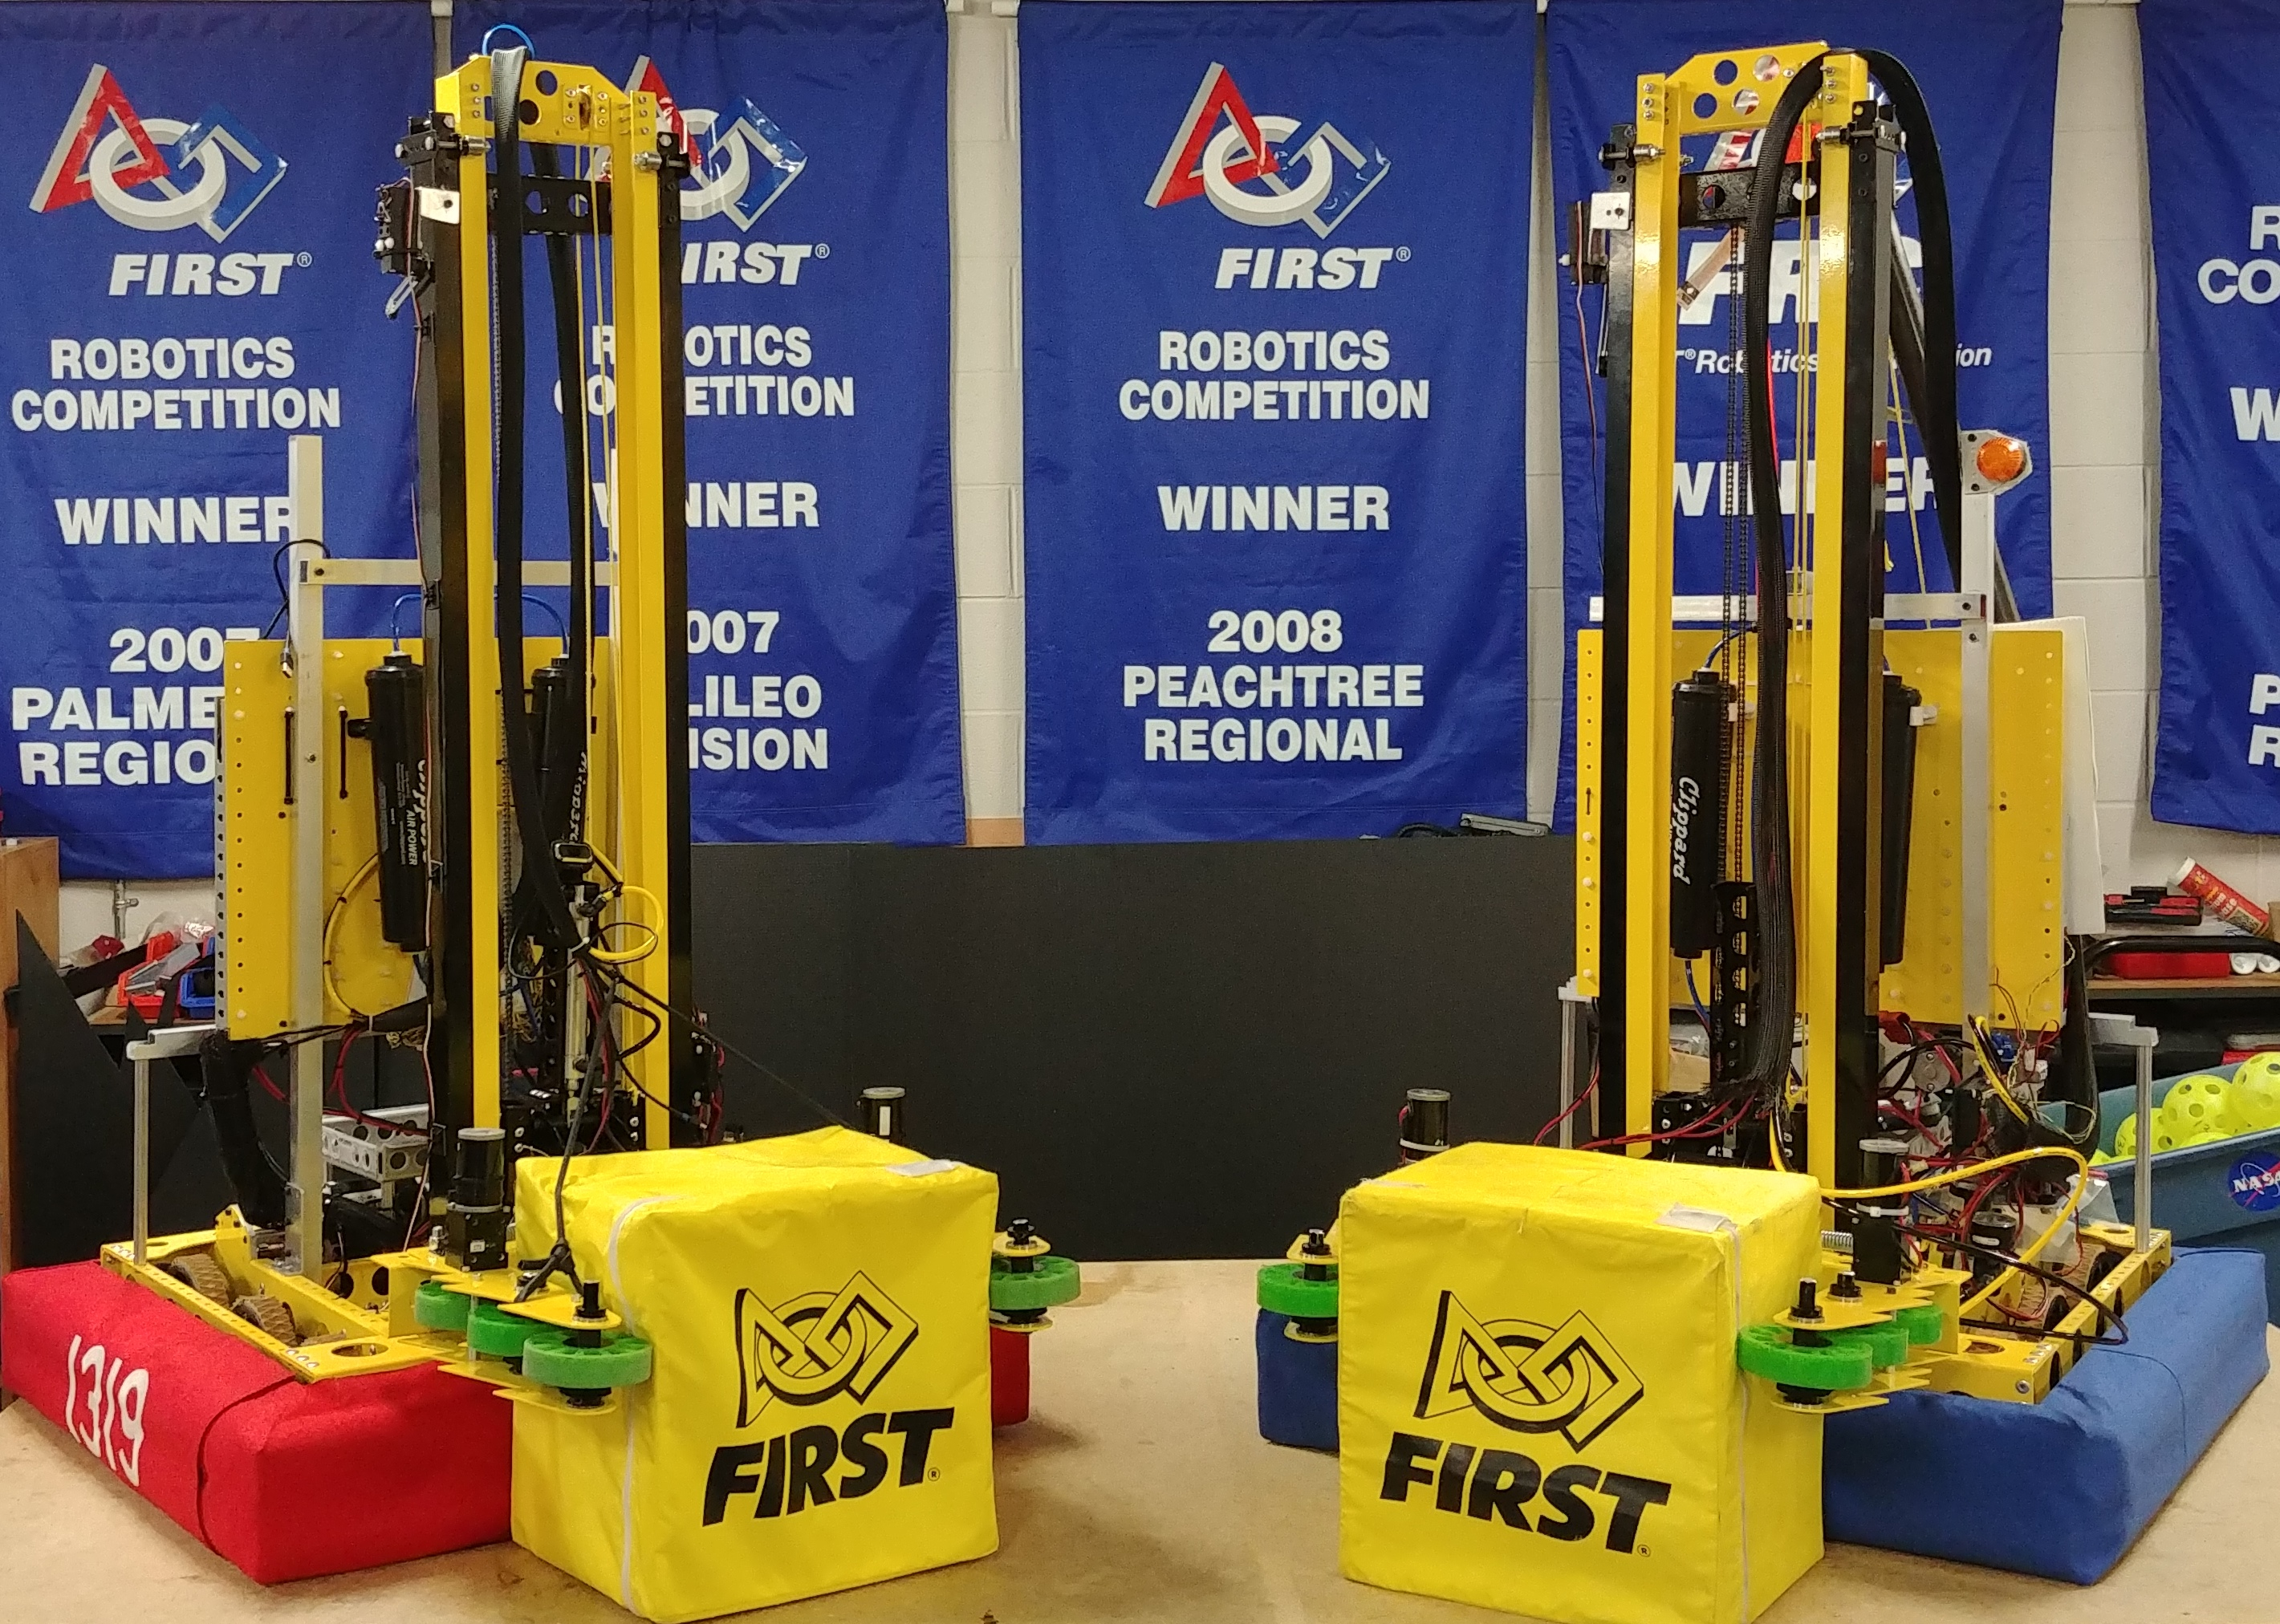cube: (512, 1125, 1002, 1624), (1338, 1141, 1828, 1624)
